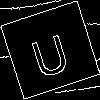U: (25, 25, 73, 80)
